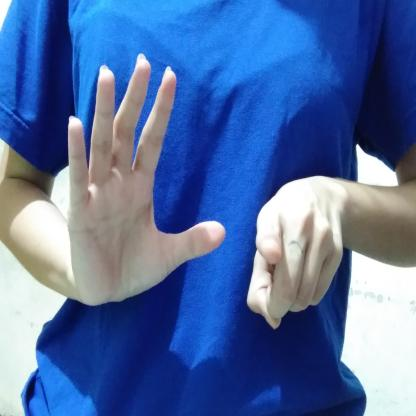stop: (59, 49, 349, 334)
